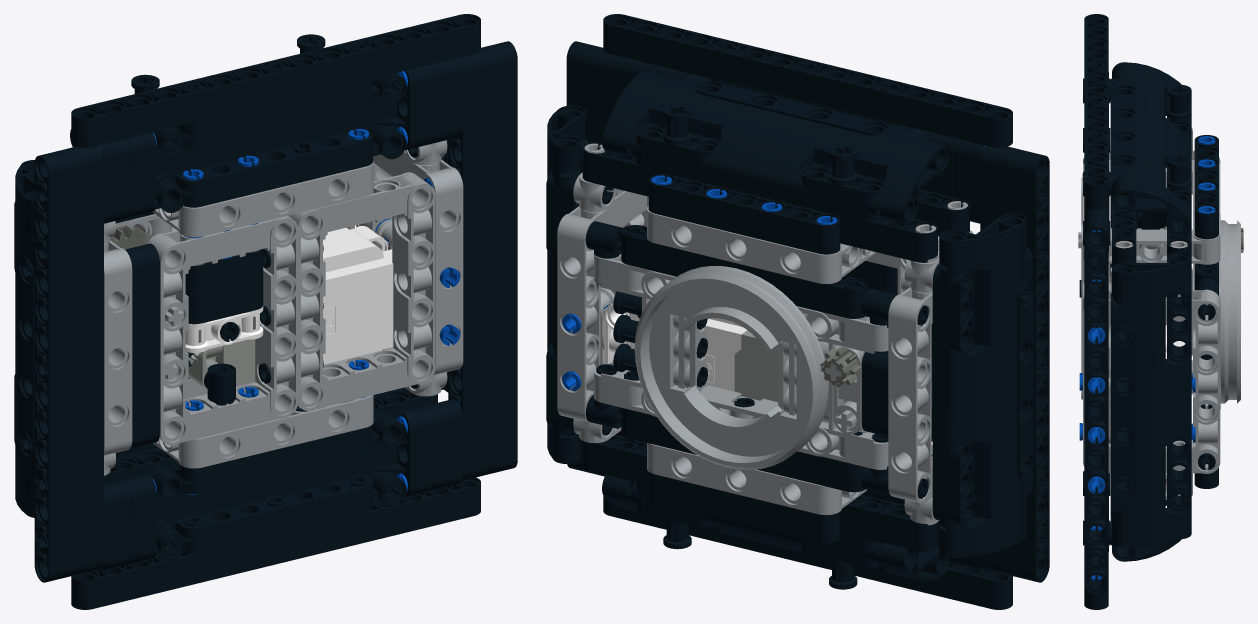
3 renders of one model, left to right at view 1: azimuth 30°, elevation 25°; view 2: azimuth 150°, elevation 25°; view 3: azimuth 270°, elevation 25°, orthographic. The views are drawn at different scales.
Visible parts, largest first — view 1: Inner-Node-link__0__Copy-90, Inner-Node-link__0__Copy-106, Inner-Node-link__0__Copy-1, Inner-Node-link__0__Copy-133, Inner-Node-link__0__Copy-0, Inner-Node-link__0__Copy-119, Inner-Node-link__0__Copy-118, Inner-Node-link__0__Copy-135, Inner-Node-link__0__Copy-138, Inner-Node-link__0__Copy-120, Inner-Node-link__0__Copy-22, Inner-Node-link__0__Copy-134 (+17 smaller); view 2: Inner-Node-link__0__Copy-134, Inner-Node-link__0__Copy-147, Inner-Node-link__0__Copy-27, Inner-Node-link__0__Copy-119, Inner-Node-link__0__Copy-26, Inner-Node-link__0__Copy-133, Inner-Node-link__0__Copy-63, Inner-Node-link__0__Copy-66, Inner-Node-link__0__Copy-148, Inner-Node-link__0__Copy-146, Inner-Node-link__0__Copy-151, Inner-Node-link__0__Copy-75 (+32 smaller); view 3: Inner-Node-link__0__Copy-146, Inner-Node-link__0__Copy-147, Inner-Node-link__0__Copy-138, Inner-Node-link__0__Copy-66, Inner-Node-link__0__Copy-119, Inner-Node-link__0__Copy-27, Inner-Node-link__0__Copy-75, Inner-Node-link__0__Copy-148, Inner-Node-link__0__Copy-104, Inner-Node-link__0__Copy-151, Inner-Node-link__0__Copy-149, Inner-Node-link__0__Copy-150 (+21 smaller).
Part boxes in pixels (box(x1,y1,x2,y2)): Inner-Node-link__0__Copy-90: box(122, 406, 434, 564); Inner-Node-link__0__Copy-106: box(128, 64, 434, 217); Inner-Node-link__0__Copy-1: box(288, 172, 435, 411); Inner-Node-link__0__Copy-133: box(34, 149, 76, 582); Inner-Node-link__0__Copy-0: box(147, 215, 298, 445); Inner-Node-link__0__Copy-119: box(71, 14, 480, 147); Inner-Node-link__0__Copy-118: box(71, 477, 480, 609); Inner-Node-link__0__Copy-135: box(448, 48, 490, 480); Inner-Node-link__0__Copy-138: box(481, 41, 517, 474); Inner-Node-link__0__Copy-120: box(67, 145, 103, 575); Inner-Node-link__0__Copy-22: box(188, 225, 396, 390); Inner-Node-link__0__Copy-134: box(14, 160, 34, 517); Inner-Node-link__0__Copy-134: box(932, 213, 1033, 558); Inner-Node-link__0__Copy-147: box(602, 71, 950, 224); Inner-Node-link__0__Copy-27: box(634, 266, 828, 469); Inner-Node-link__0__Copy-119: box(603, 14, 1012, 147); Inner-Node-link__0__Copy-26: box(594, 254, 888, 469); Inner-Node-link__0__Copy-133: box(1008, 149, 1049, 582); Inner-Node-link__0__Copy-63: box(888, 287, 932, 503); Inner-Node-link__0__Copy-66: box(557, 192, 648, 422); Inner-Node-link__0__Copy-148: box(648, 174, 840, 254); Inner-Node-link__0__Copy-146: box(546, 105, 588, 463); Inner-Node-link__0__Copy-151: box(602, 475, 950, 581); Inner-Node-link__0__Copy-75: box(647, 206, 876, 283); Inner-Node-link__0__Copy-146: box(1110, 251, 1191, 546); Inner-Node-link__0__Copy-147: box(1110, 62, 1191, 236); Inner-Node-link__0__Copy-138: box(1084, 215, 1108, 594); Inner-Node-link__0__Copy-66: box(1083, 289, 1220, 473); Inner-Node-link__0__Copy-119: box(1084, 14, 1108, 210); Inner-Node-link__0__Copy-27: box(1220, 220, 1240, 403); Inner-Node-link__0__Copy-75: box(1083, 160, 1220, 264); Inner-Node-link__0__Copy-148: box(1194, 135, 1218, 239); Inner-Node-link__0__Copy-104: box(1112, 196, 1136, 266); Inner-Node-link__0__Copy-151: box(1110, 500, 1185, 561); Inner-Node-link__0__Copy-149: box(1167, 154, 1191, 189); Inner-Node-link__0__Copy-150: box(1167, 84, 1191, 119).
Size of the model in its own units: 340 by 340 by 120.
